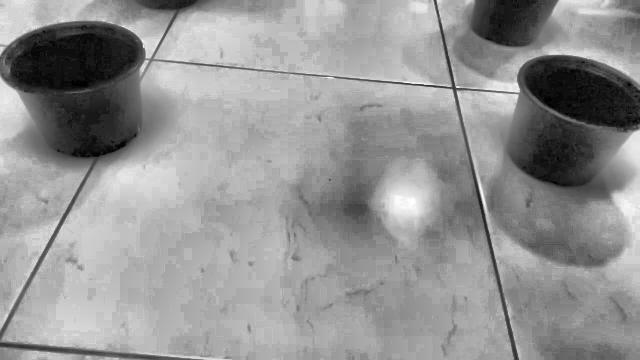pot: (0, 22, 145, 158), (507, 55, 640, 187)
